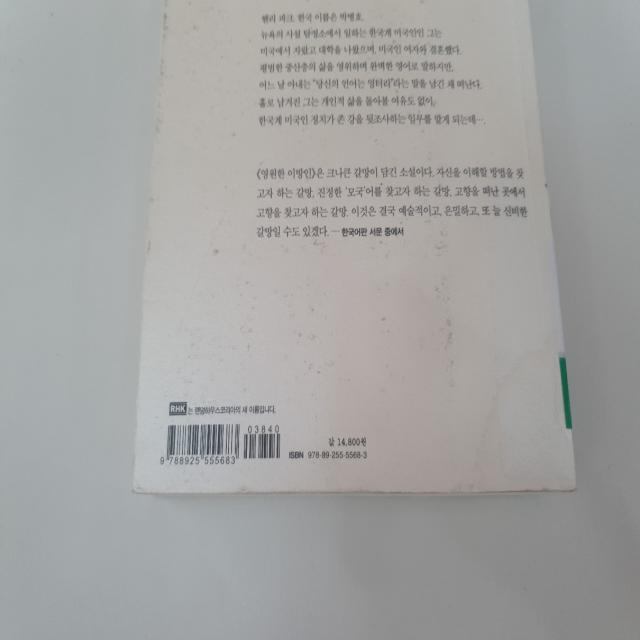Wornout: (133, 484, 584, 501)
